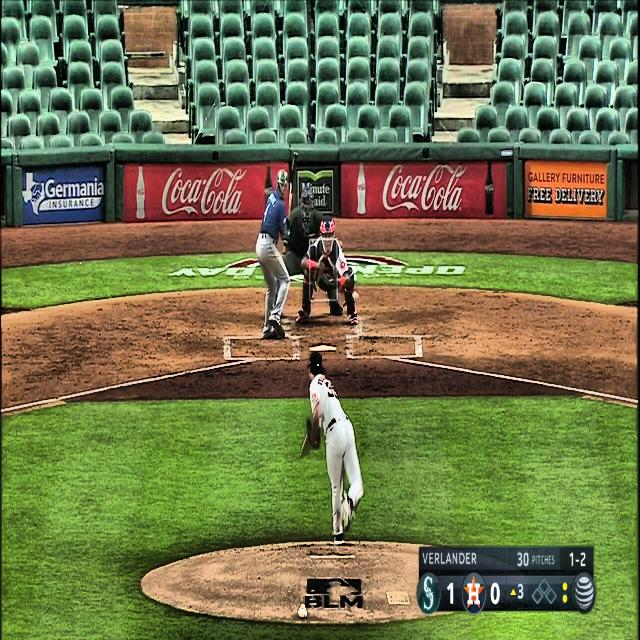baseball: (352, 291, 359, 300)
